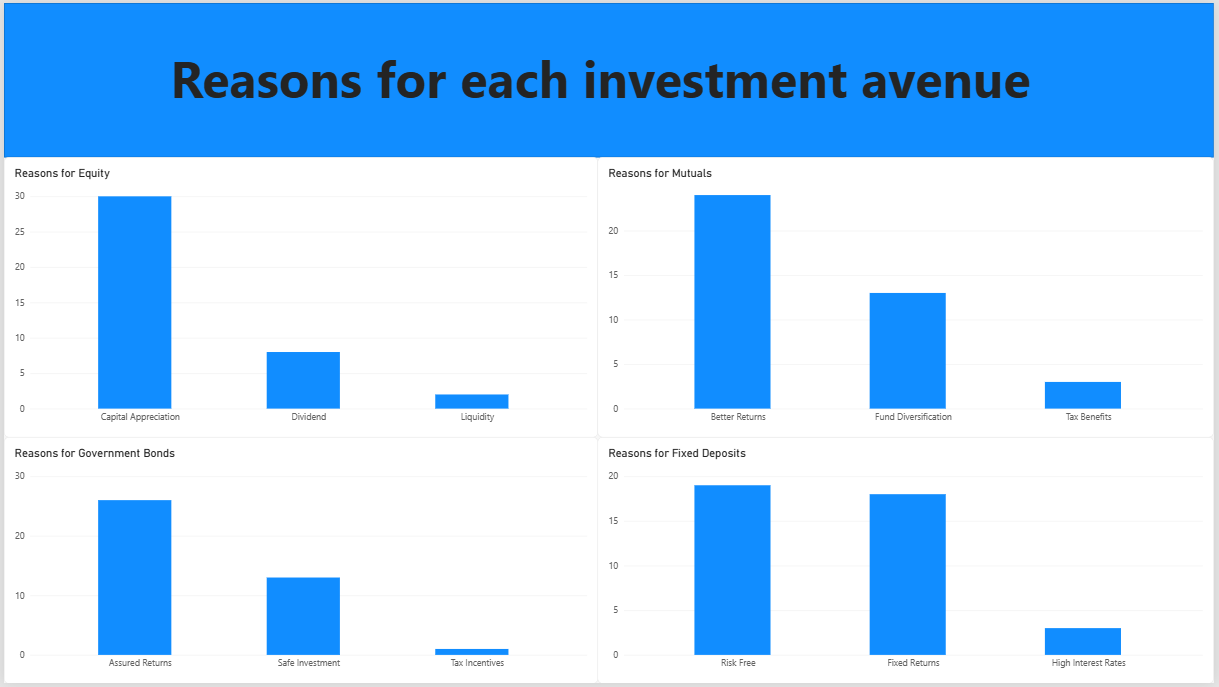

Layout of this report page (visuals, bound fields, positions):
{"tool":"powerbi","page":{"name":"Page 3","canvas":[1920,1080],"ordinal":2},"visuals":[{"type":"shape","box":[0,0,1920,245],"z":0},{"type":"textbox","box":[265,65,1397.9,111.2],"z":1000},{"type":"columnChart","title":"Reasons for Fixed Deposits","fields":{"Category":["Query9.Reason_FD"],"Y":["Sum(Query9.Count)"]},"box":[942.9,689.7,977.9,391.2],"z":2000},{"type":"columnChart","title":"Reasons for Equity","fields":{"Category":["Query6.Reason_Equity"],"Y":["Sum(Query6.Count)"]},"box":[0,245,942.9,444.7],"z":3000},{"type":"columnChart","title":"Reasons for Mutuals","fields":{"Category":["Query7.Reason_Mutual"],"Y":["Sum(Query7.count)"]},"box":[942.9,245,977.9,444.7],"z":4000},{"type":"columnChart","title":"Reasons for Government Bonds","fields":{"Category":["Query8.Reason_Bonds"],"Y":["Sum(Query8.Count)"]},"box":[0,689.7,942.9,391.2],"z":5000}]}

Visuals, with their boxes in screenshot pixels (x1, y1, x2, y2), scaled from the page's 1920x1080 canvas onto the 1219x687 screenshot:
shape: 0 0 1218 156
textbox: 168 41 1056 112
"Reasons for Fixed Deposits" columnChart: 599 439 1218 686
"Reasons for Equity" columnChart: 0 156 599 439
"Reasons for Mutuals" columnChart: 599 156 1218 439
"Reasons for Government Bonds" columnChart: 0 439 599 686
